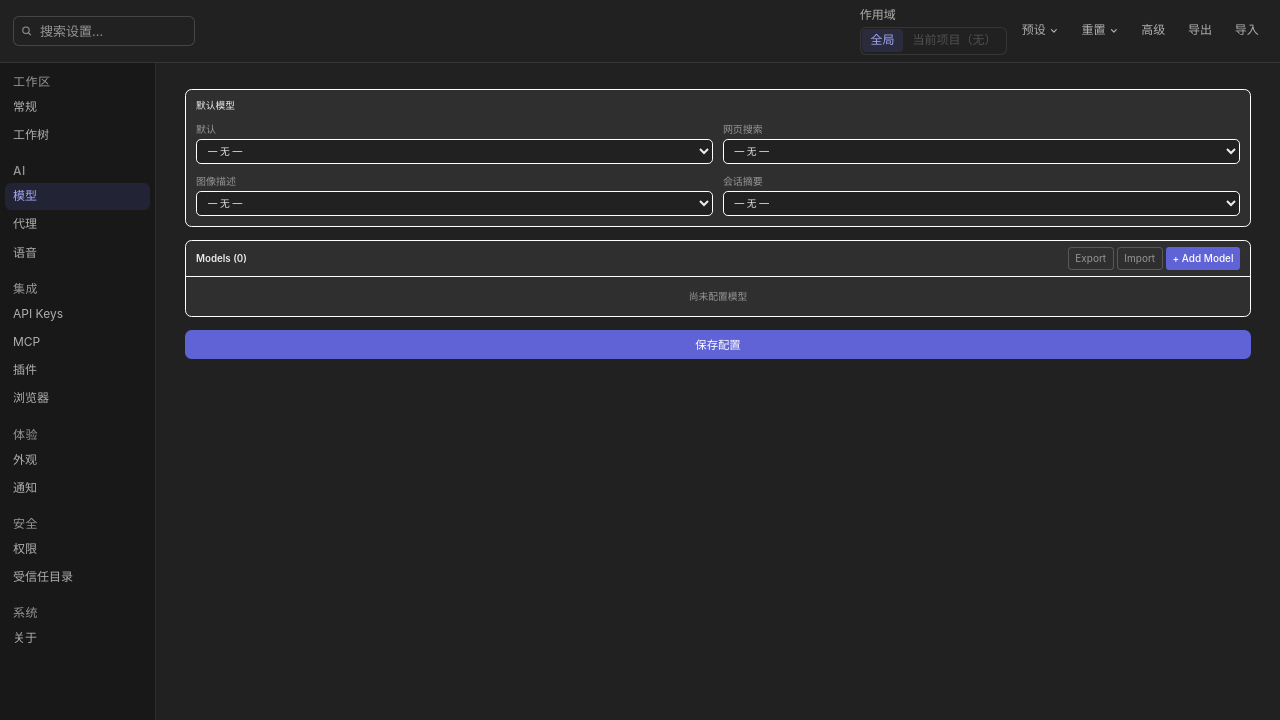
Scenario: Settings Center (R4-07) › basic mode hides advanced fields
Check: the navigation bar named "设置分类" is shown, box [0, 63, 156, 719]
# agent.autonomous is advanced — navigate to 代理 section
Click the button "代理" at (78, 225), box [5, 212, 150, 238]
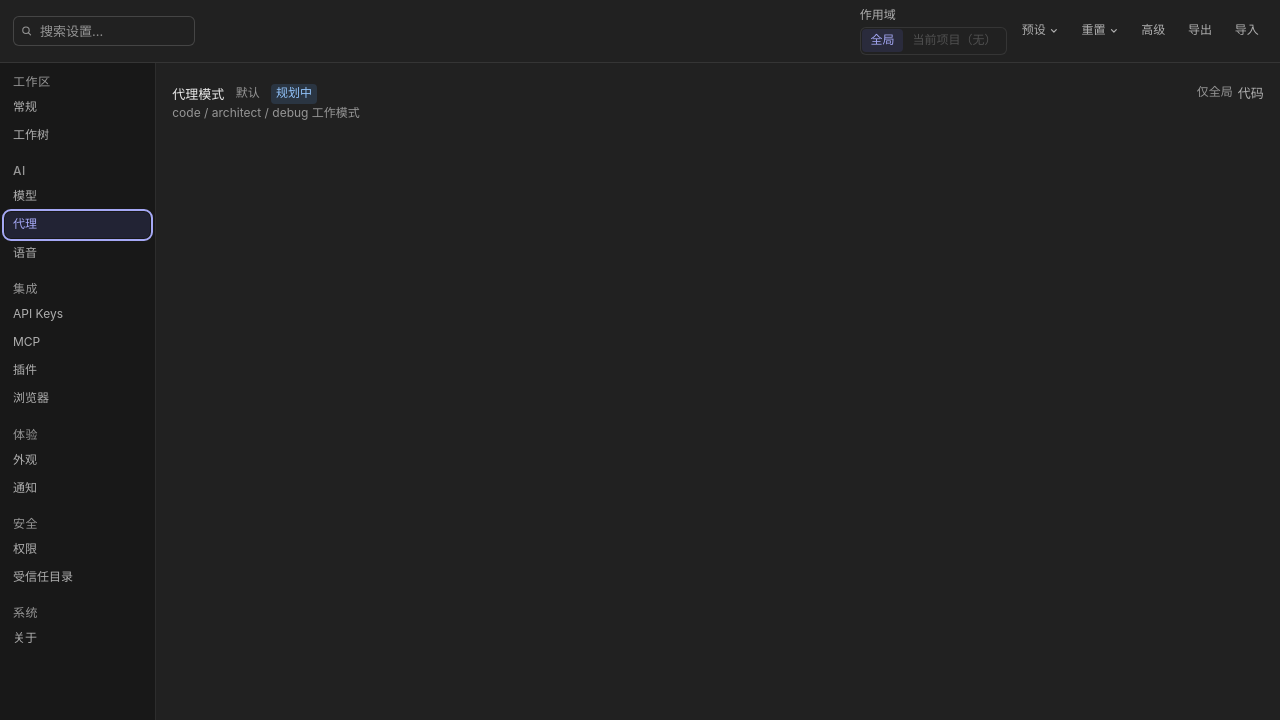
Check: the text "自治执行" is not shown
# toggle to advanced
Click the button "高级" at (1153, 31), box [1133, 18, 1174, 44]
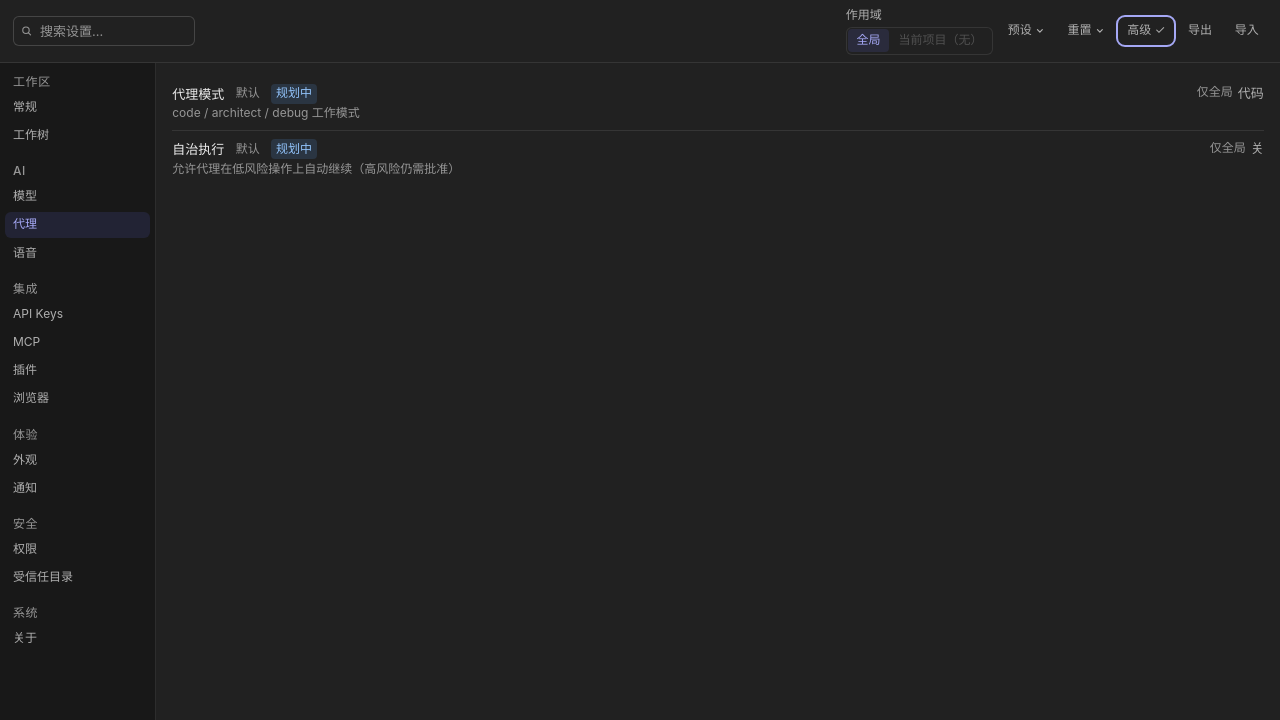
Check: the text "自治执行" is shown, box [172, 140, 224, 159]
